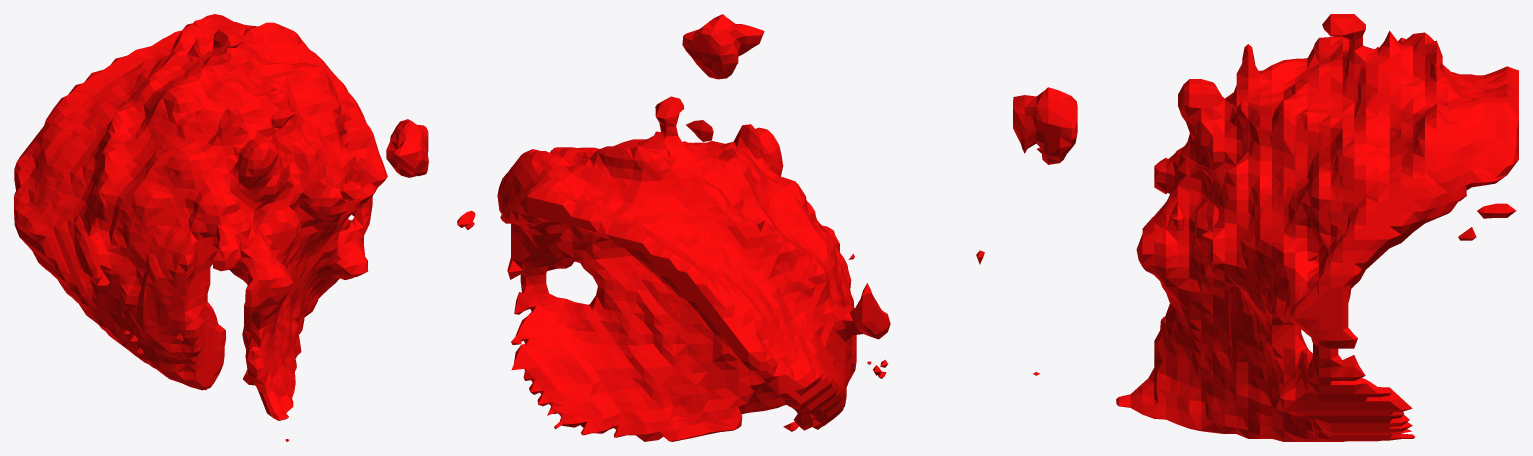
File: B939XXXX-1_valve_4.obj
The picture shows the model from 3 angles, left to right: view 1: azimuth 30°, elevation 25°; view 2: azimuth 150°, elevation 25°; view 3: azimuth 270°, elevation 25°; orthographic projection. The views are drawn at different scales.
Parts seen in each view (by area): view 1: 4_valve; view 2: 4_valve; view 3: 4_valve.
Boxes of the visible parts, x1=… form: 4_valve: x1=14, y1=14, x2=428, y2=441; 4_valve: x1=457, y1=14, x2=984, y2=441; 4_valve: x1=1013, y1=14, x2=1518, y2=441.
Size of the model in its own units: 77.98 by 76.97 by 85.95.
